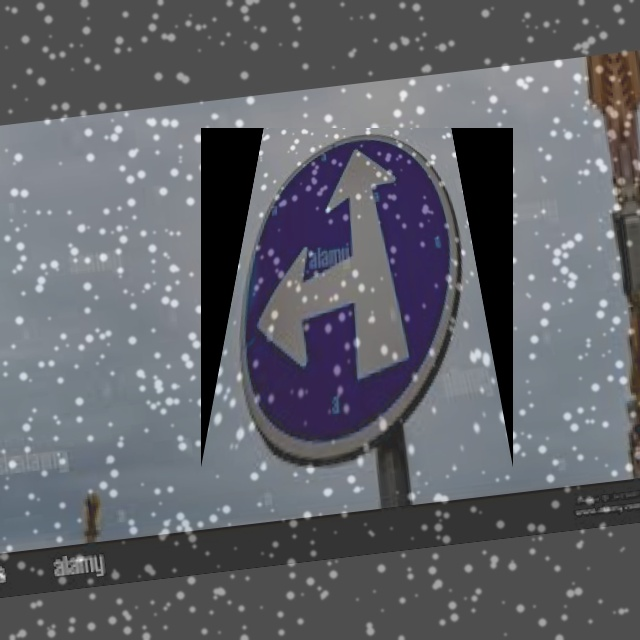Compulsory_Ahead_or_Turn_Left: (201, 128, 513, 468)
